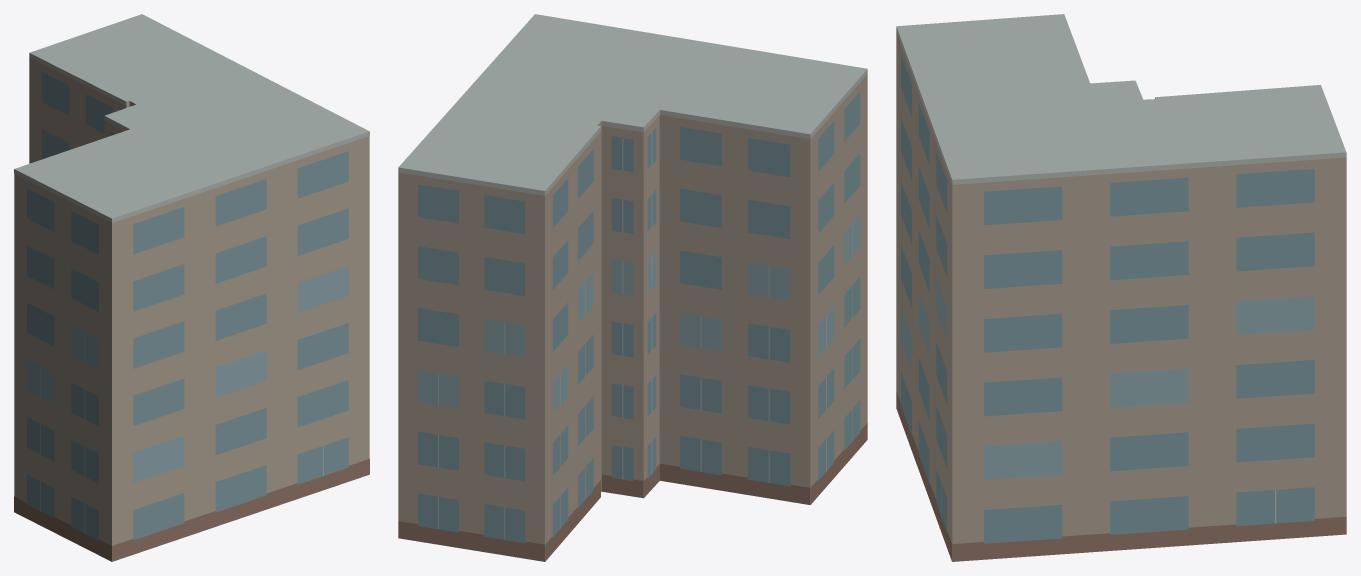
The model's file is survey-upis-32979609.glb.
3 views of the same model, side by side, from view 1: azimuth 30°, elevation 25°; view 2: azimuth 150°, elevation 25°; view 3: azimuth 270°, elevation 25° (orthographic). The views are drawn at different scales.
Visible parts, largest first — view 1: survey-upis-32979609.tmp; view 2: survey-upis-32979609.tmp; view 3: survey-upis-32979609.tmp.
Boxes of the visible parts, left/top/right/bottom form: survey-upis-32979609.tmp: left=14, top=14, right=369, bottom=561; survey-upis-32979609.tmp: left=398, top=14, right=867, bottom=561; survey-upis-32979609.tmp: left=896, top=14, right=1346, bottom=561.
Size of the model in its own units: 17.23 by 18.5 by 19.76.
